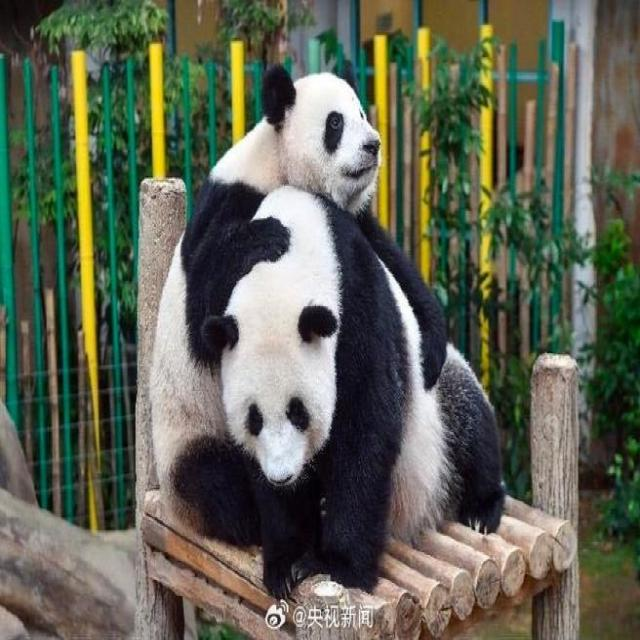panda: (145, 55, 513, 604)
